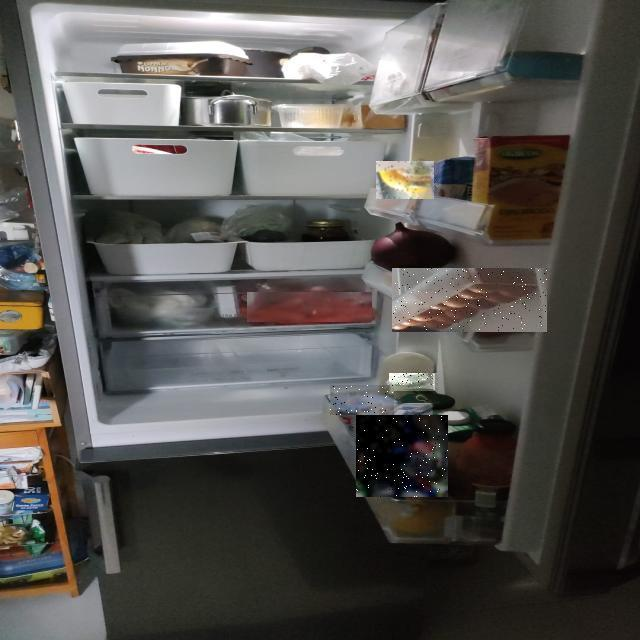carrot: (61, 161, 433, 483)
cheese: (132, 248, 580, 640)
egg: (119, 166, 640, 498)
